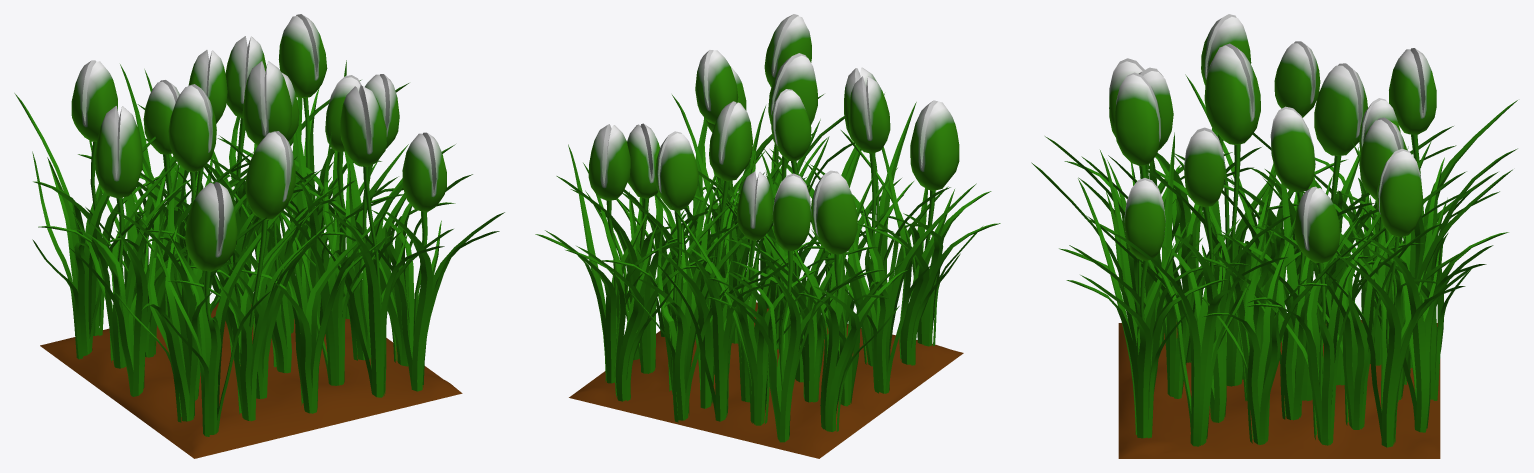
Rendered from white-tulip-p4-leaf.glb.
The picture shows the model from 3 angles, left to right: view 1: azimuth 30°, elevation 25°; view 2: azimuth 150°, elevation 25°; view 3: azimuth 270°, elevation 25°; orthographic projection. The views are drawn at different scales.
Parts seen in each view (by area): view 1: 4_nft_out_of _bloom; view 2: 4_nft_out_of _bloom; view 3: 4_nft_out_of _bloom.
Part boxes in pixels (left/top/right/bottom): 4_nft_out_of _bloom: left=14, top=14, right=504, bottom=458; 4_nft_out_of _bloom: left=535, top=14, right=1000, bottom=458; 4_nft_out_of _bloom: left=1031, top=14, right=1517, bottom=458.
Size of the model in its own units: 0.9577 by 0.8188 by 1.07.
Materials: 3 (1 with a texture image).
